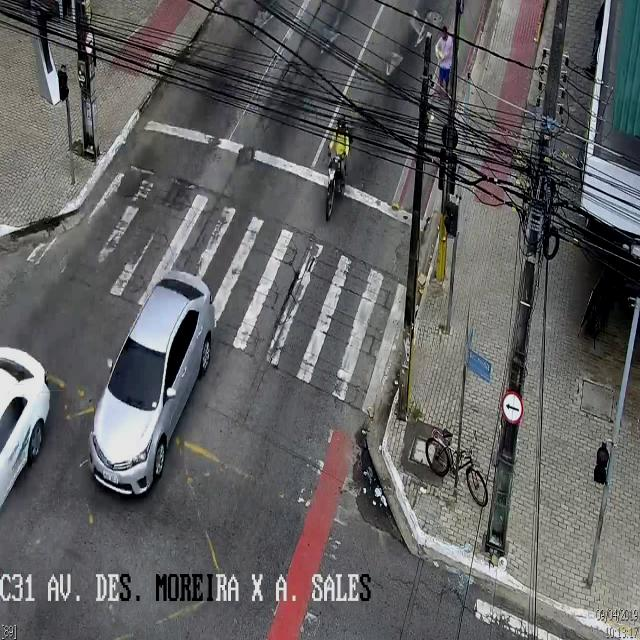Car: (88, 270, 213, 498), (0, 306, 73, 534)
Motorcycle: (324, 112, 352, 222)
